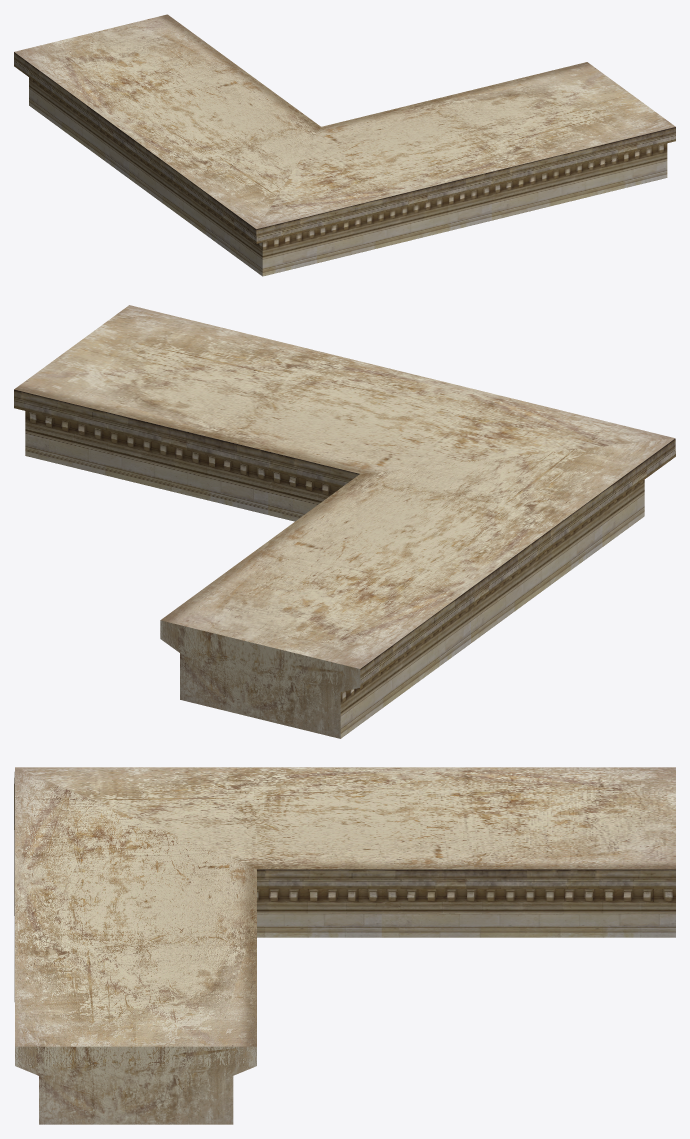
Rendered from SVPergolaTop_CornerL.dae.
The picture shows the model from 3 angles, top to bottom: view 1: azimuth 30°, elevation 25°; view 2: azimuth 150°, elevation 25°; view 3: azimuth 270°, elevation 25°; orthographic projection. The views are drawn at different scales.
Parts seen in each view (by area): view 1: cube4_sep17-0; view 2: cube4_sep17-0; view 3: cube4_sep17-0.
Part boxes in pixels (<box>): cube4_sep17-0: <box>14,14,675,276</box>; cube4_sep17-0: <box>14,305,675,738</box>; cube4_sep17-0: <box>14,767,675,1124</box>.
Size of the model in its own units: 612 by 80 by 613.
